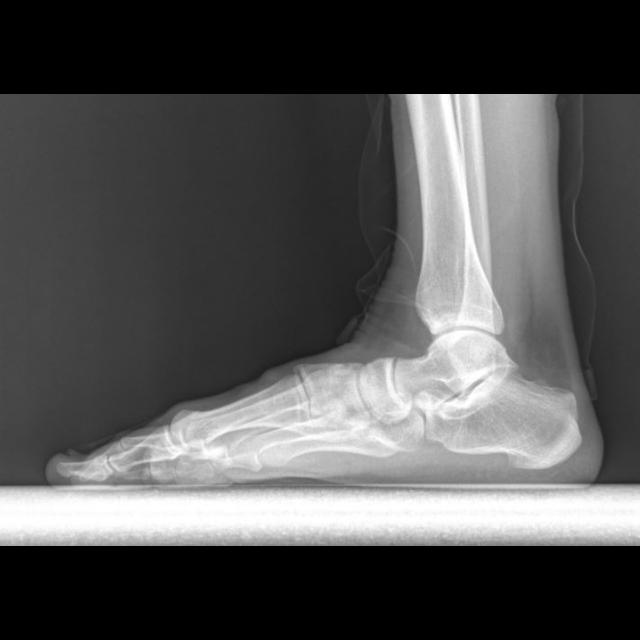a: (414, 365, 581, 469)
b: (358, 358, 412, 425)
c: (171, 372, 311, 467)
